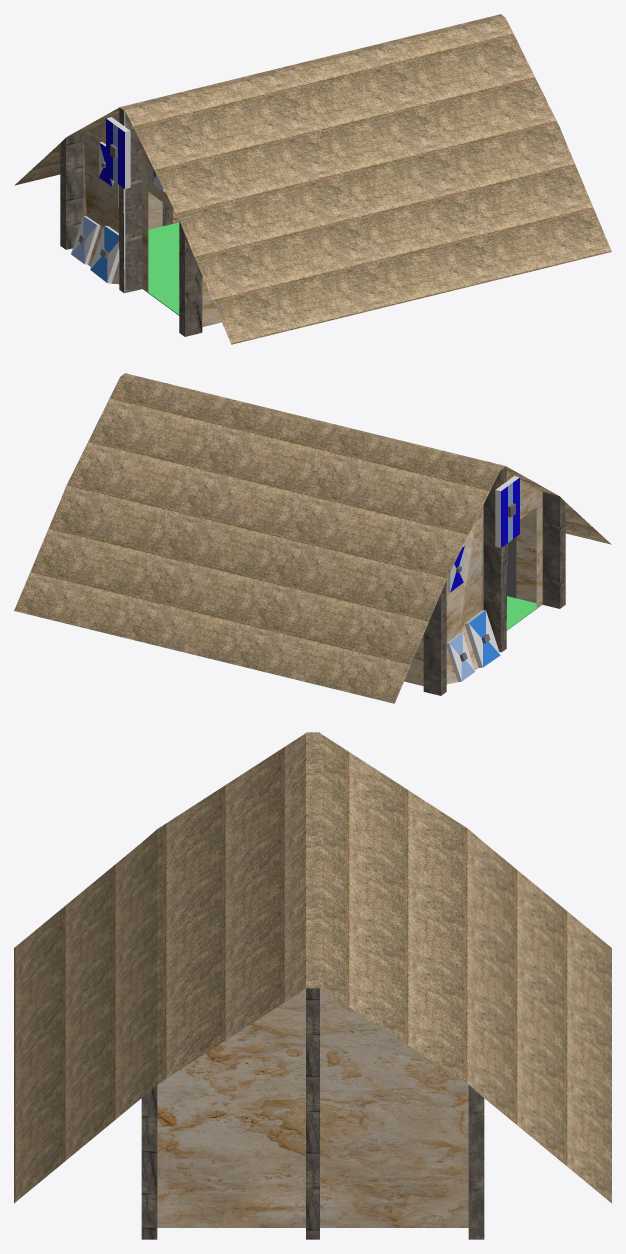
File: casern_small.glb
3 renders of one model, top to bottom at view 1: azimuth 30°, elevation 25°; view 2: azimuth 150°, elevation 25°; view 3: azimuth 270°, elevation 25°, orthographic. The views are drawn at different scales.
Parts seen in each view (by area): view 1: Cube; view 2: Cube; view 3: Cube.
Boxes of the visible parts, left/top/right/bottom form: Cube: left=14, top=14, right=611, bottom=344; Cube: left=14, top=373, right=611, bottom=703; Cube: left=14, top=732, right=611, bottom=1239.
Size of the model in its own units: 20.33 by 9.08 by 19.58.
Materials: 9 (3 with a texture image).
